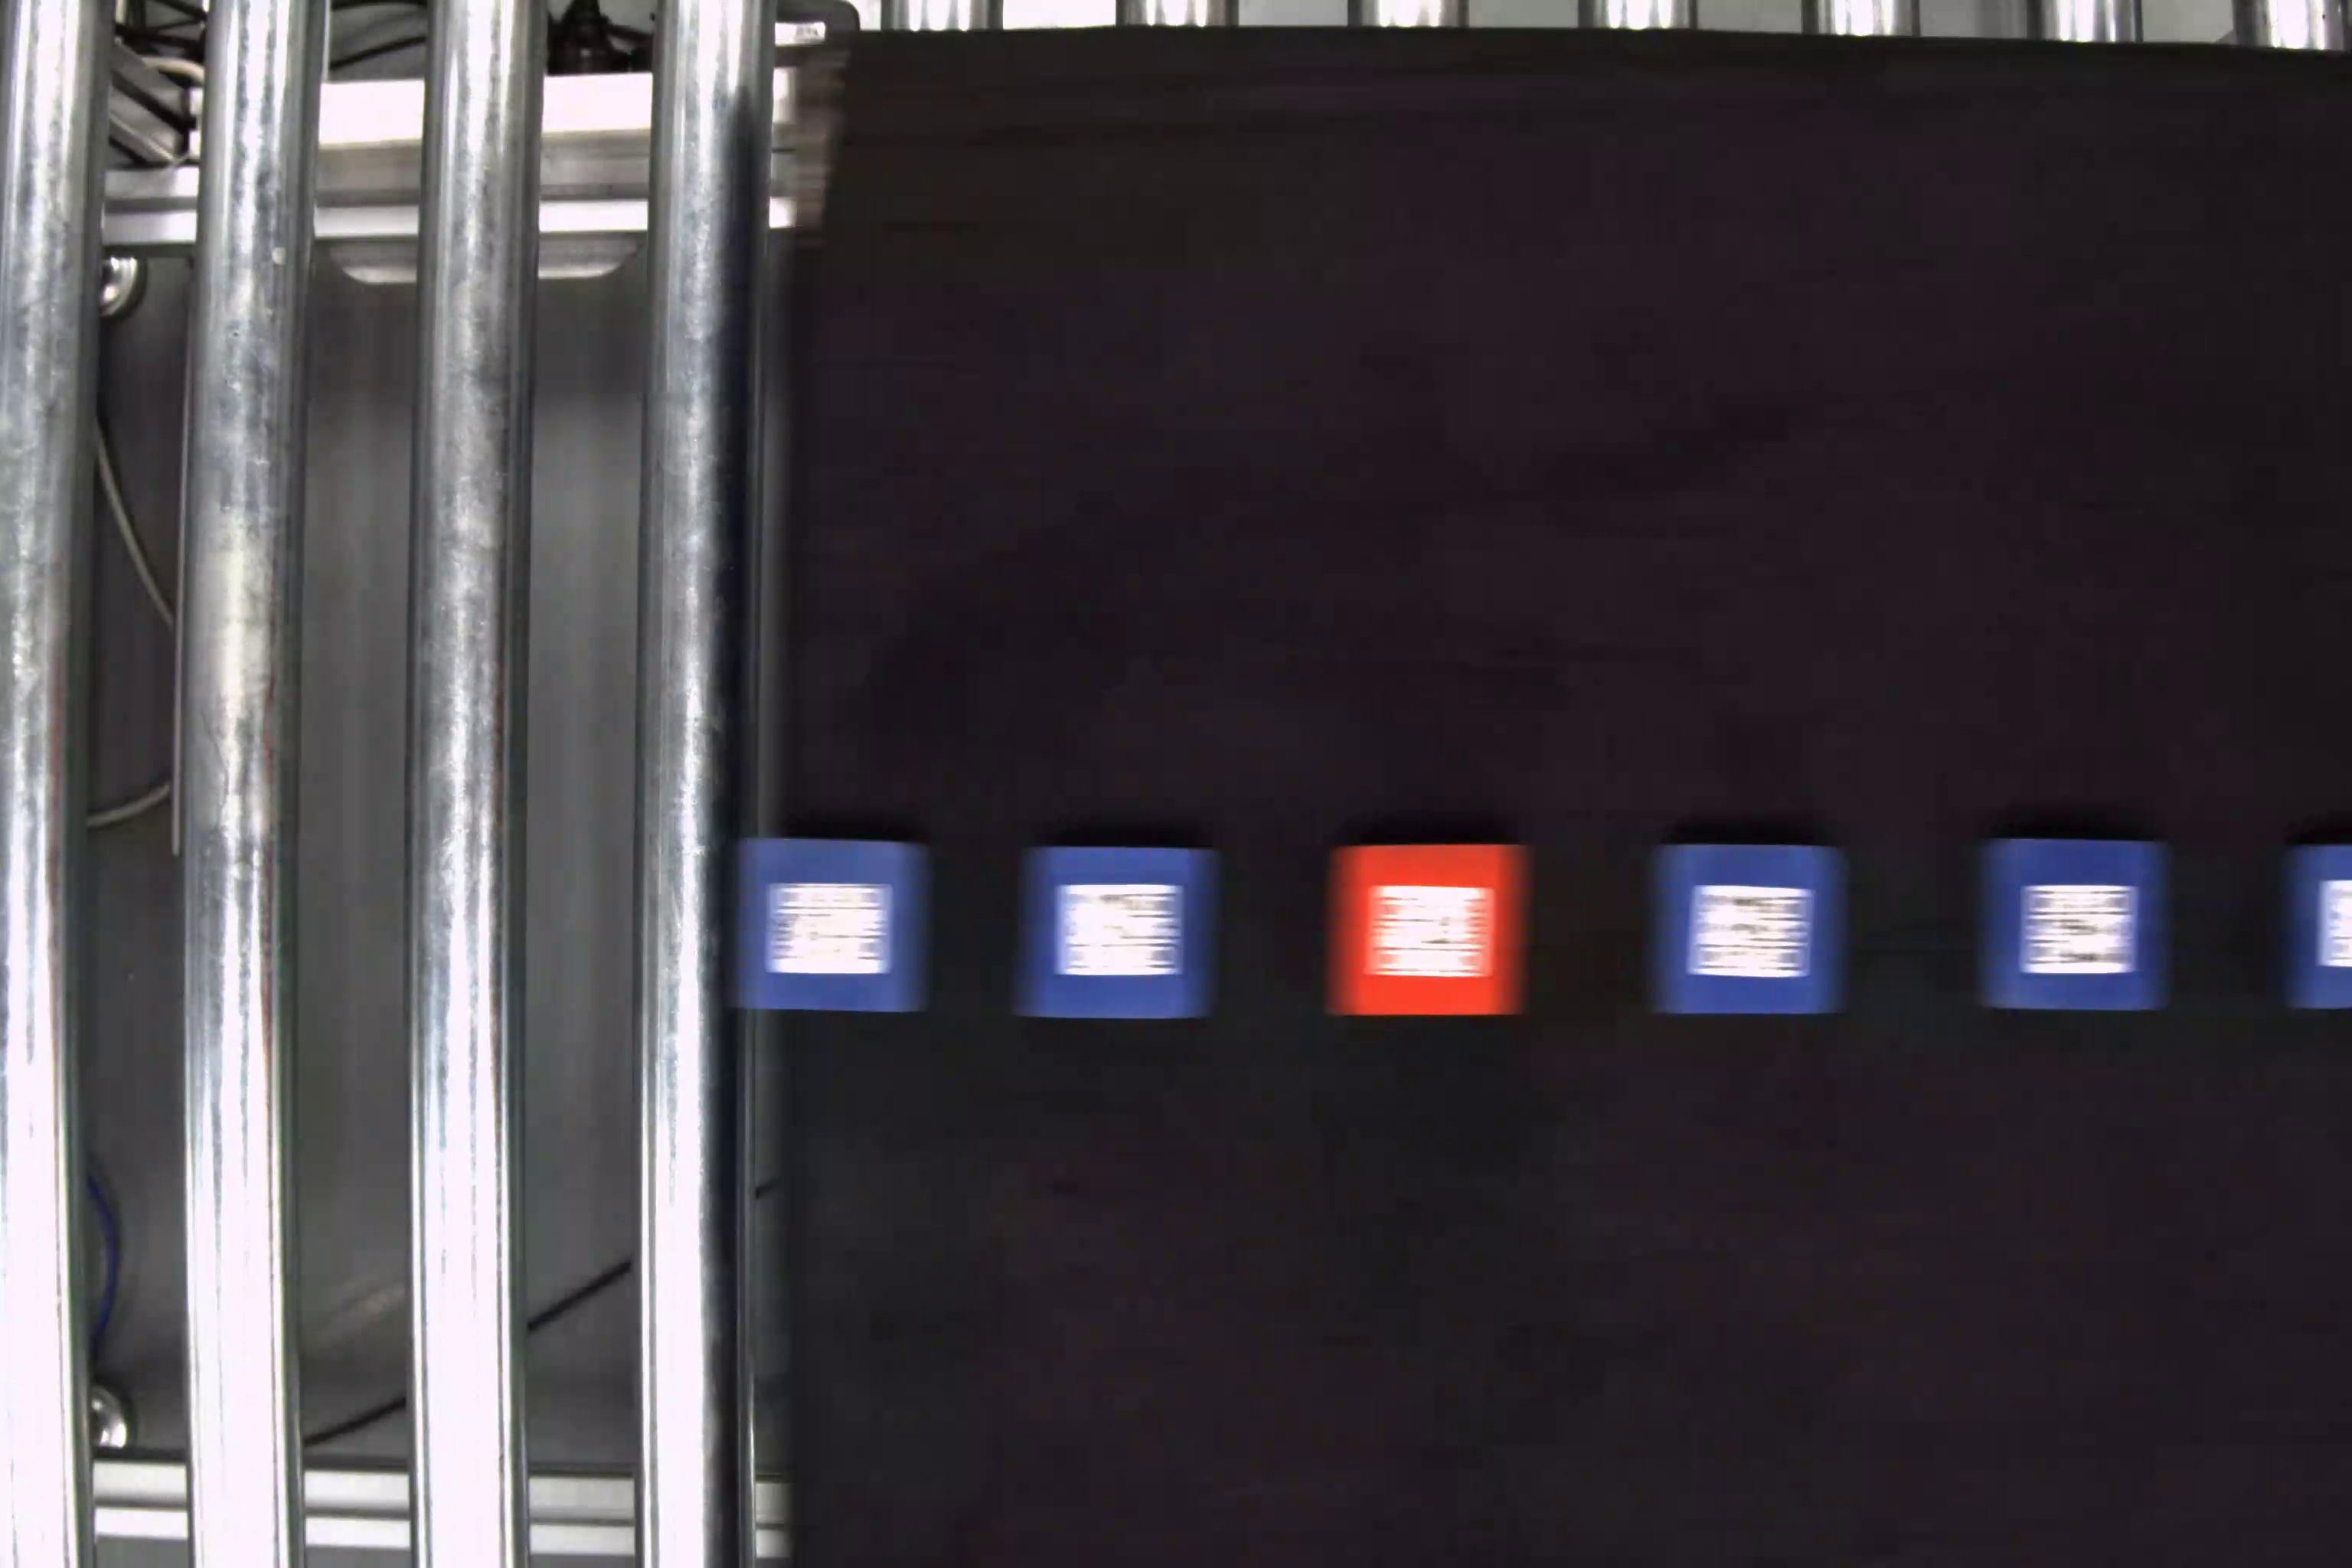wood: (1323, 842, 1535, 1022), (1645, 840, 1851, 1018), (1017, 843, 1221, 1022), (738, 833, 936, 1015), (1976, 833, 2170, 1008), (2278, 842, 2352, 1001)
